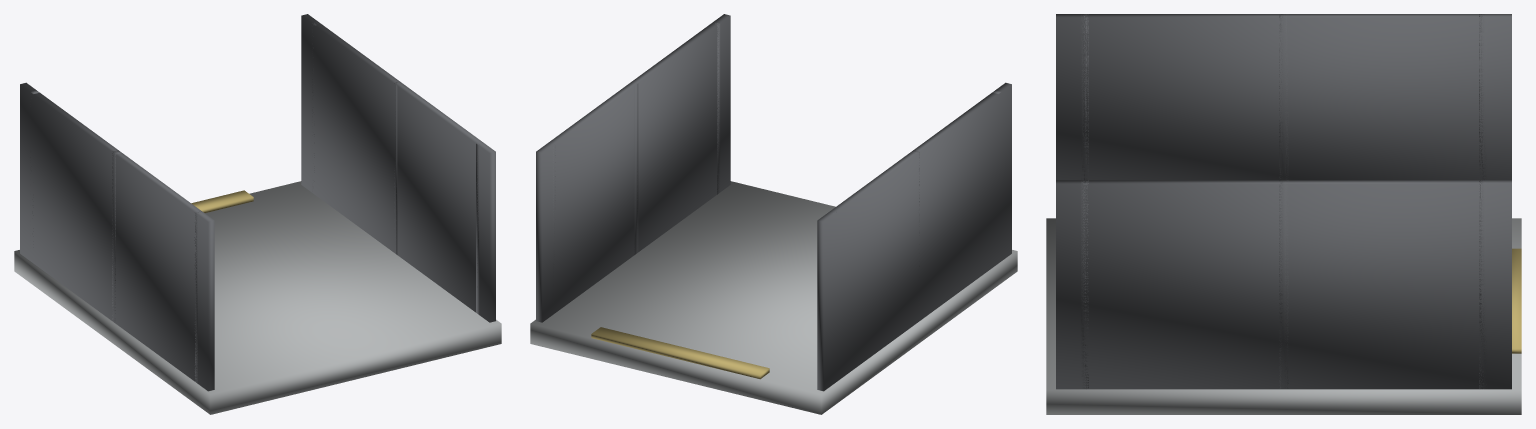
Rendered from floor_w180_d210_sides.glb.
3 views of the same model, side by side, from view 1: azimuth 30°, elevation 25°; view 2: azimuth 150°, elevation 25°; view 3: azimuth 270°, elevation 25° (orthographic). The views are drawn at different scales.
Visible parts, largest first — view 1: world; view 2: world; view 3: world.
Part boxes in pixels (x1,y1,x2,y2): world: (14, 14, 501, 414); world: (530, 14, 1017, 414); world: (1046, 14, 1521, 414).
Bounding box in the file's own units: 1.8 × 1.12 × 2.1.
